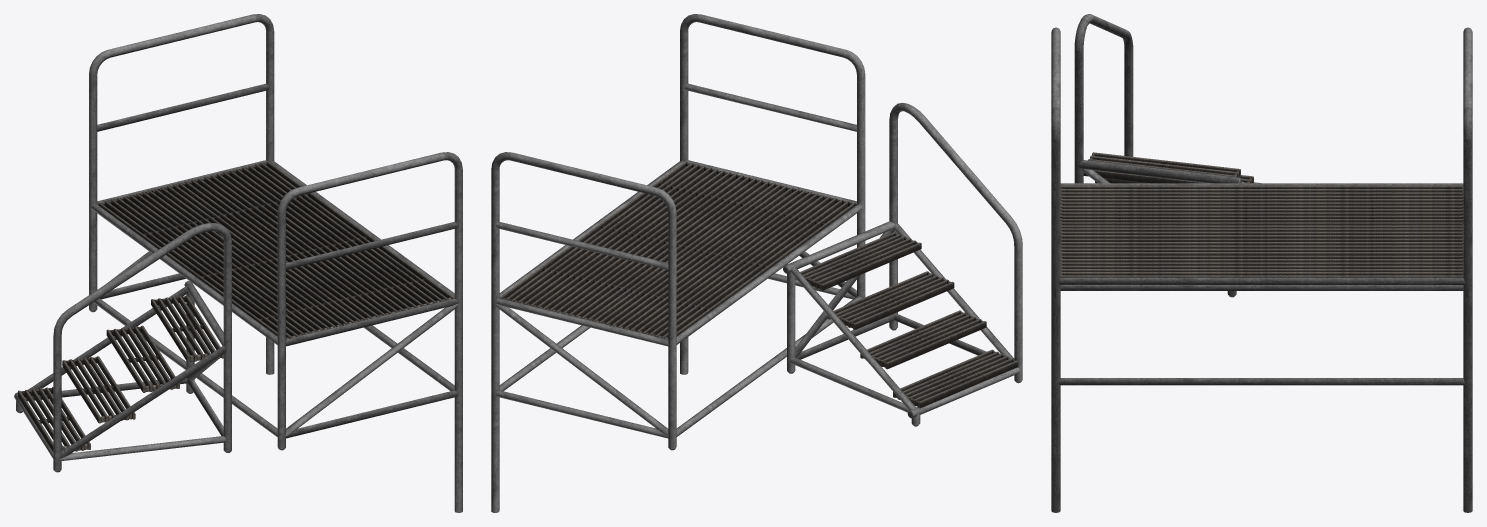
File: tau_shell_platform.dae
3 renders of one model, left to right at view 1: azimuth 30°, elevation 25°; view 2: azimuth 150°, elevation 25°; view 3: azimuth 270°, elevation 25°, orthographic. The views are drawn at different scales.
Parts seen in each view (by area): view 1: grating__2_, railing__2_; view 2: grating__2_, railing__2_; view 3: grating__2_, railing__2_.
Boxes of the visible parts, x1,y1,x2,y2 form: grating__2_: (18, 161, 454, 451); railing__2_: (14, 14, 462, 512); grating__2_: (499, 161, 1018, 408); railing__2_: (491, 14, 1022, 512); grating__2_: (1060, 152, 1463, 277); railing__2_: (1051, 14, 1472, 512).
Size of the model in its own units: 3.73 by 3.45 by 3.32.
